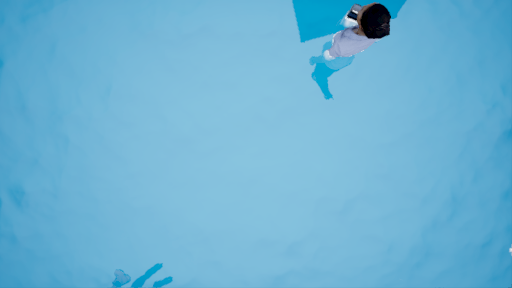person: (306, 5, 387, 113)
